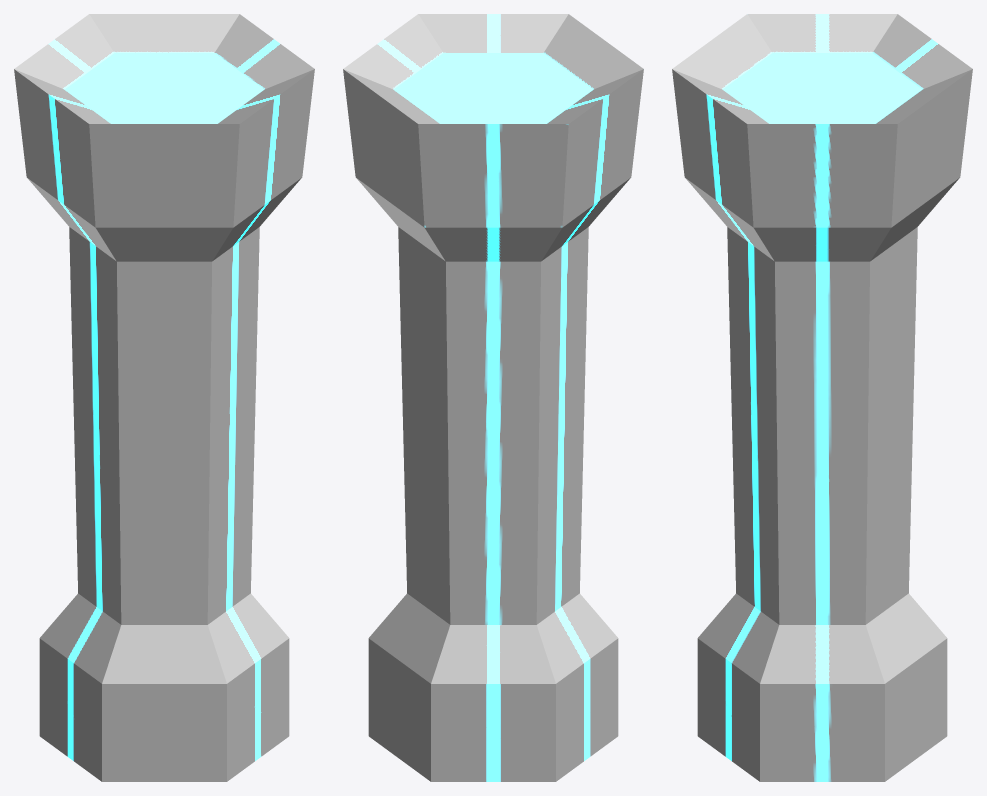
The model's file is shop_tower.fbx.
3 views of the same model, side by side, from view 1: azimuth 30°, elevation 25°; view 2: azimuth 150°, elevation 25°; view 3: azimuth 270°, elevation 25° (orthographic).
Parts seen in each view (by area): view 1: shop tower_bake; view 2: shop tower_bake; view 3: shop tower_bake.
Boxes of the visible parts, left/top/right/bottom form: shop tower_bake: left=14, top=14, right=314, bottom=781; shop tower_bake: left=343, top=14, right=643, bottom=781; shop tower_bake: left=672, top=14, right=972, bottom=781.
Size of the model in its own units: 25.03 by 70.71 by 28.91.
